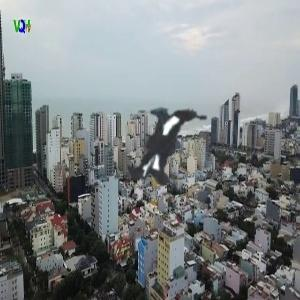drone: (29, 16, 296, 283)
